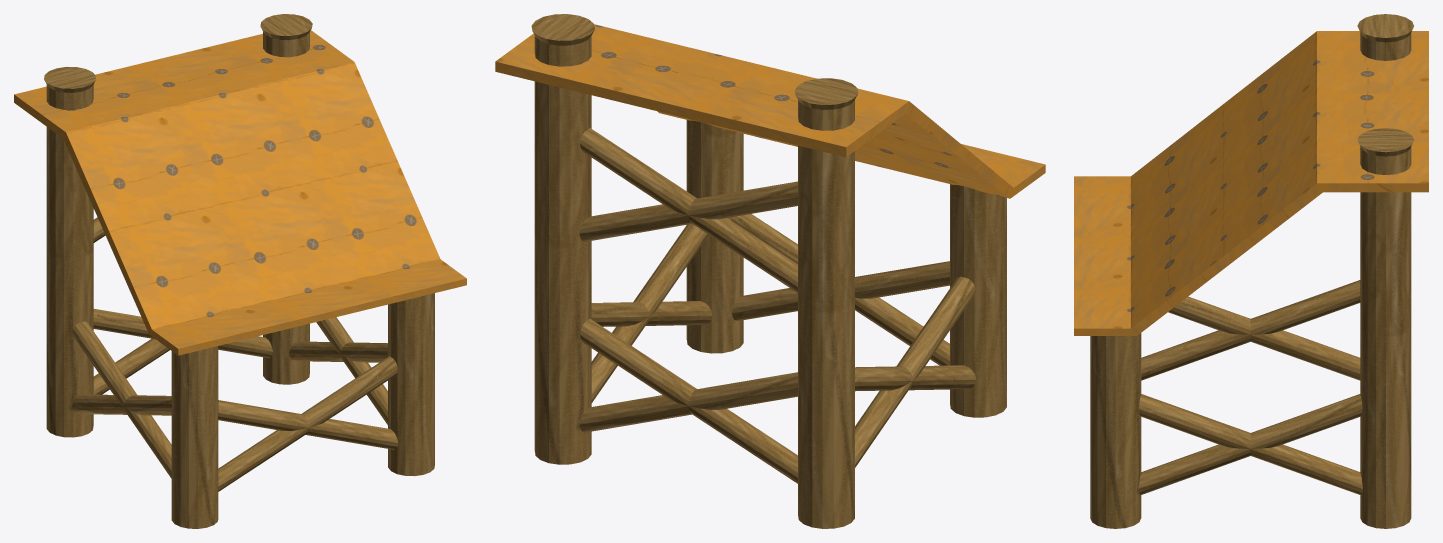
Rendered from GroundPlatformRampExtended.fbx.
3 renders of one model, left to right at view 1: azimuth 30°, elevation 25°; view 2: azimuth 150°, elevation 25°; view 3: azimuth 270°, elevation 25°, orthographic. The views are drawn at different scales.
Parts seen in each view (by area): view 1: GroundPlatformRampExtended; view 2: GroundPlatformRampExtended; view 3: GroundPlatformRampExtended.
Part boxes in pixels (box(x1,y1,x2,y2)): GroundPlatformRampExtended: box(14, 14, 466, 528); GroundPlatformRampExtended: box(495, 14, 1045, 528); GroundPlatformRampExtended: box(1074, 14, 1428, 528).
Size of the model in its own units: 160 by 185 by 158.
